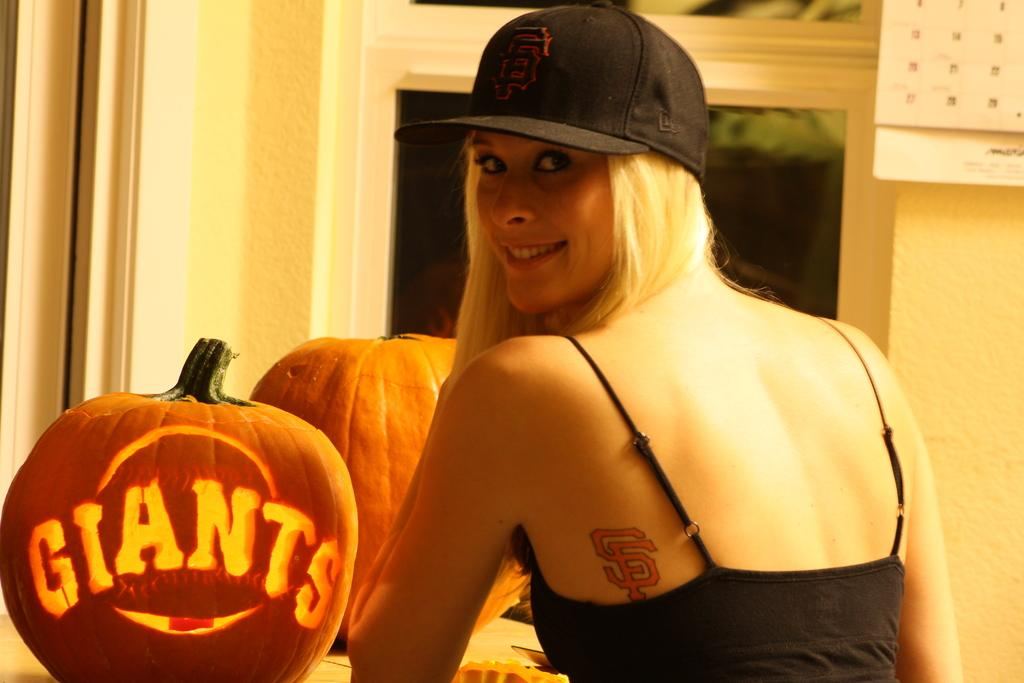Hat: (393, 0, 712, 180)
